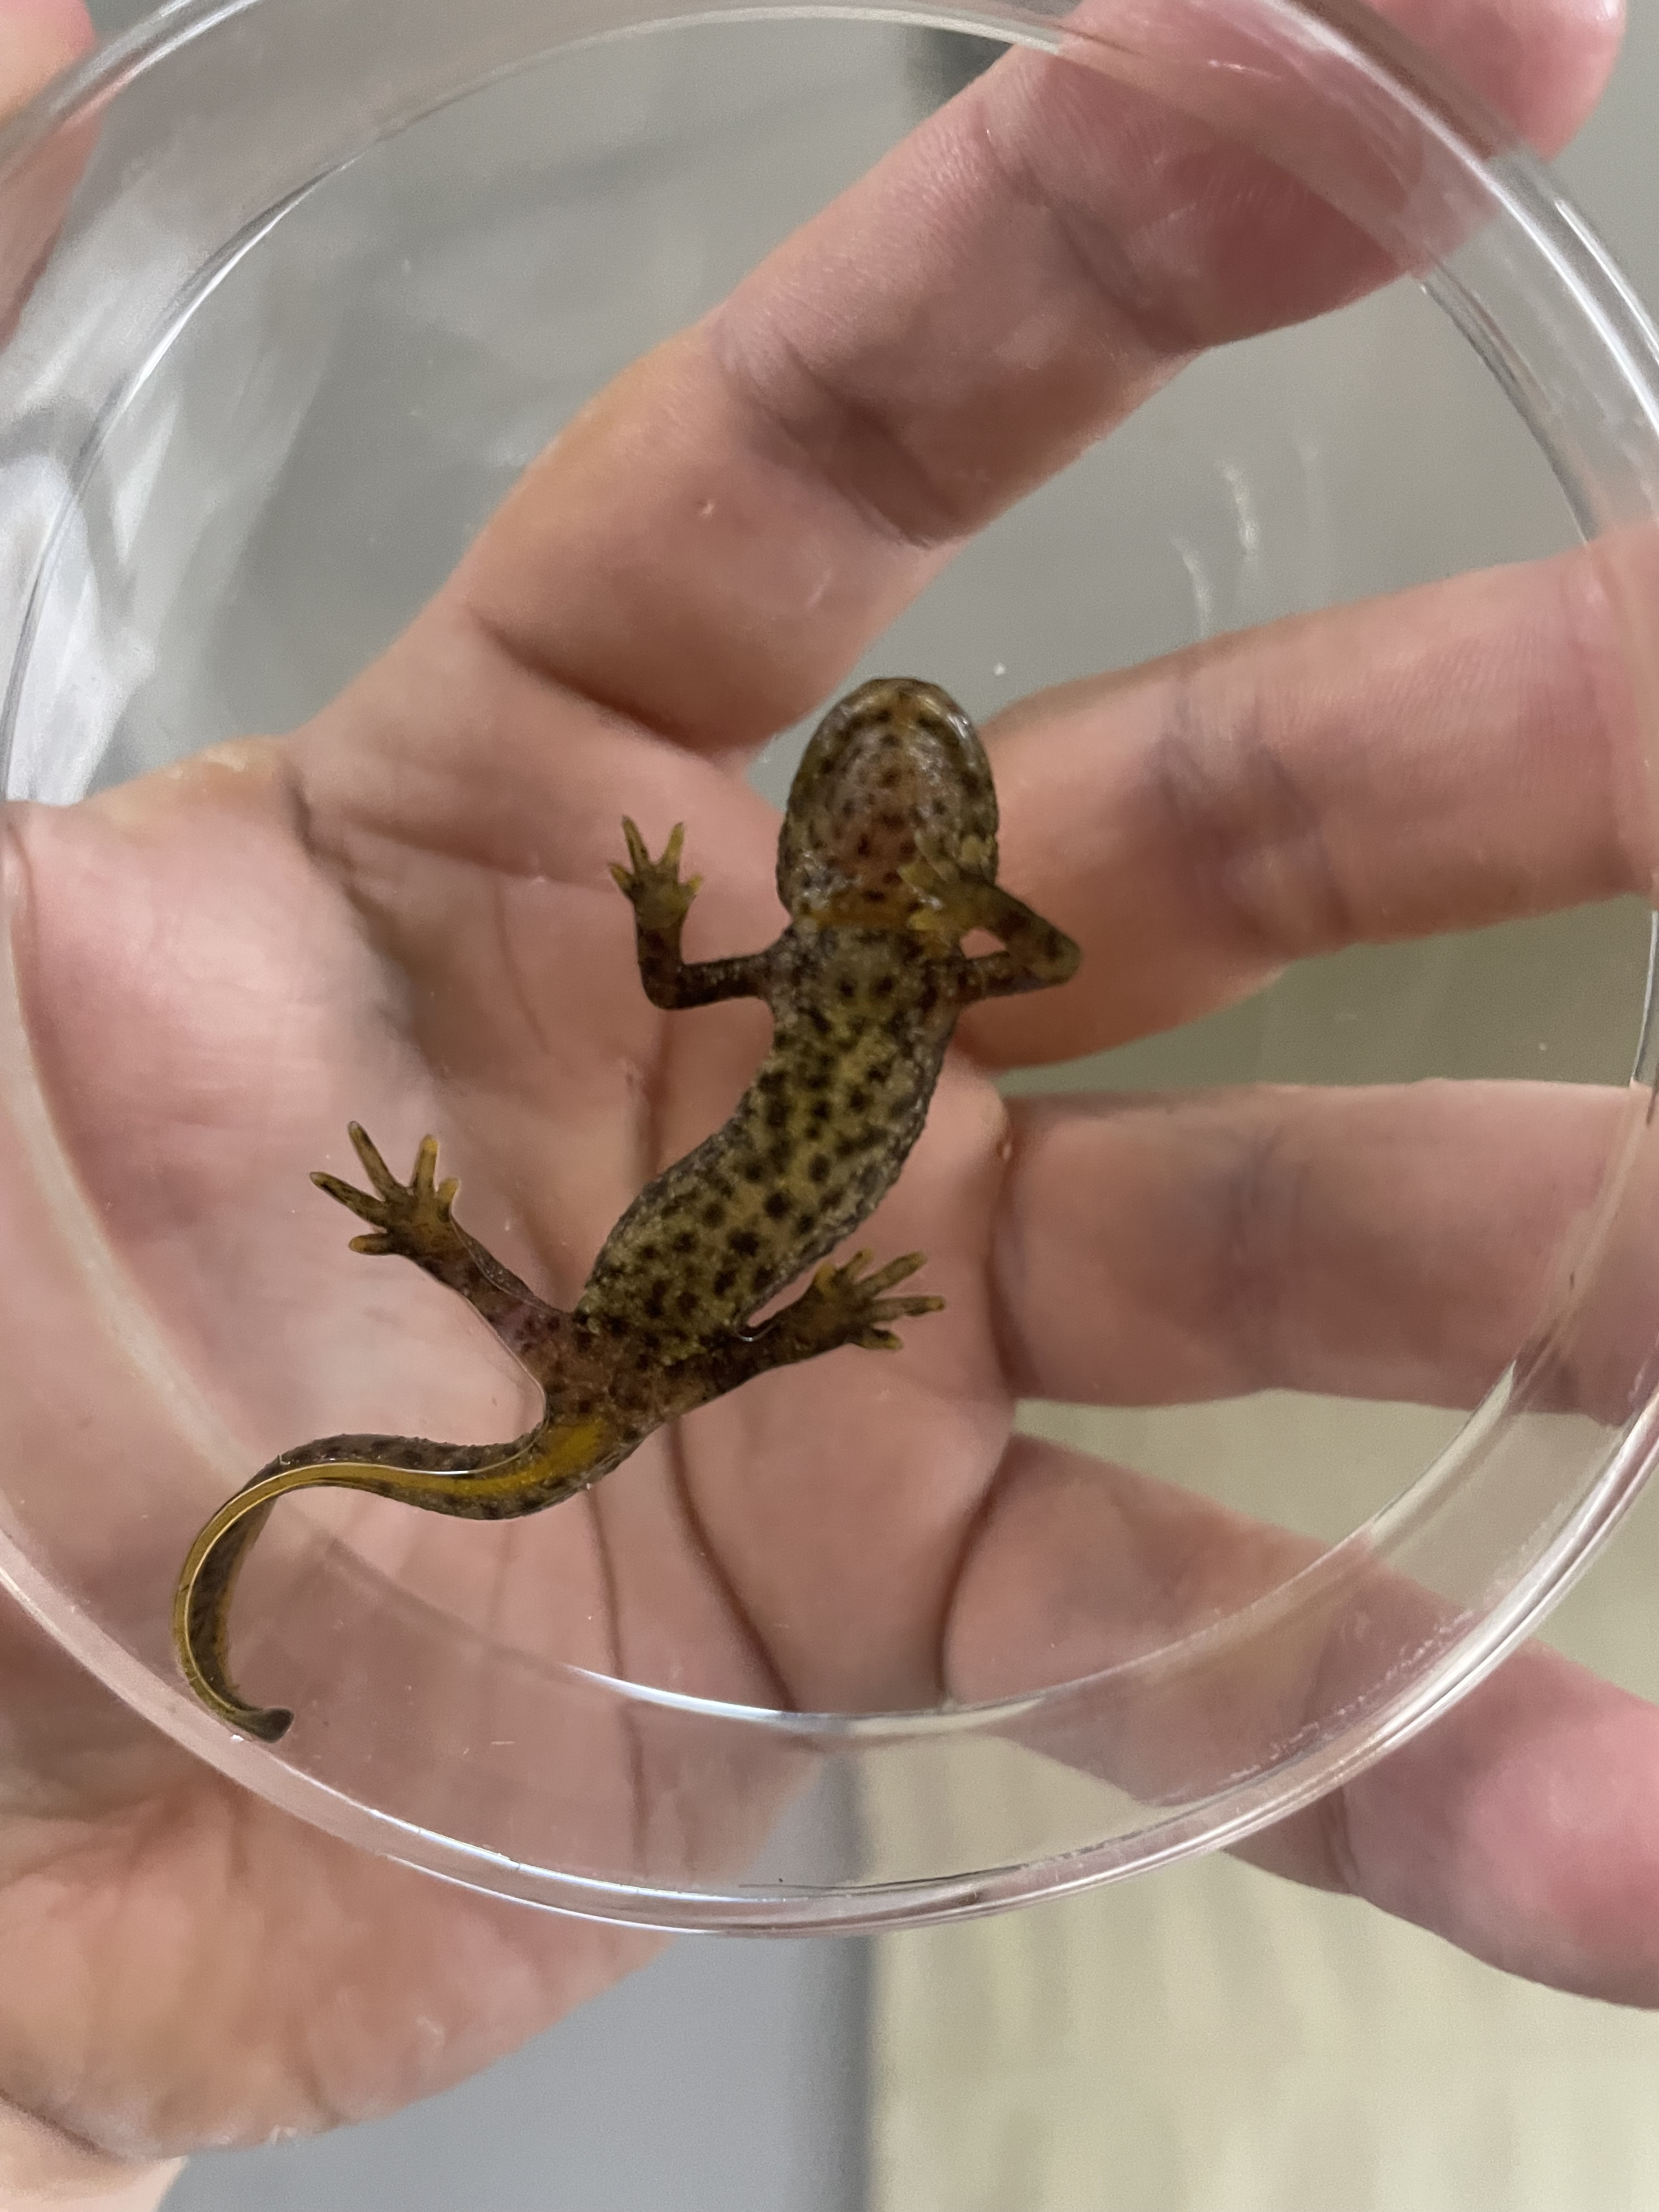newt_ribbed: (572, 998, 965, 1325)
